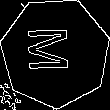M_E: (30, 29, 81, 76)
